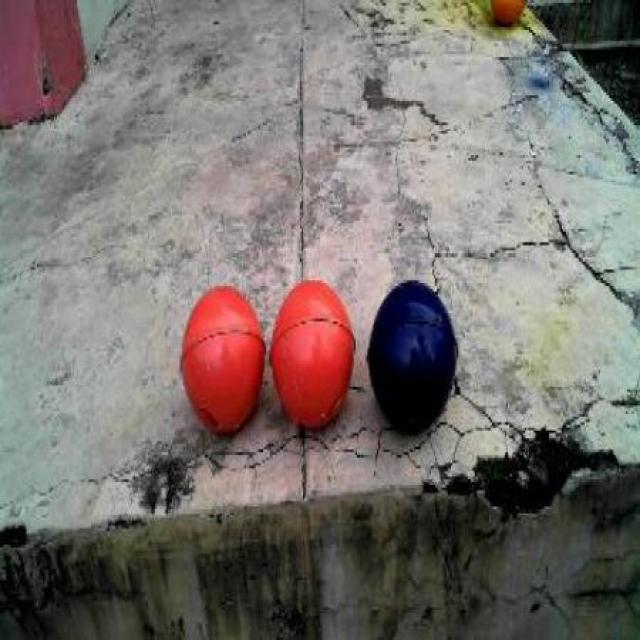buoy: (359, 274, 463, 442), (264, 274, 360, 447), (172, 269, 267, 442)
